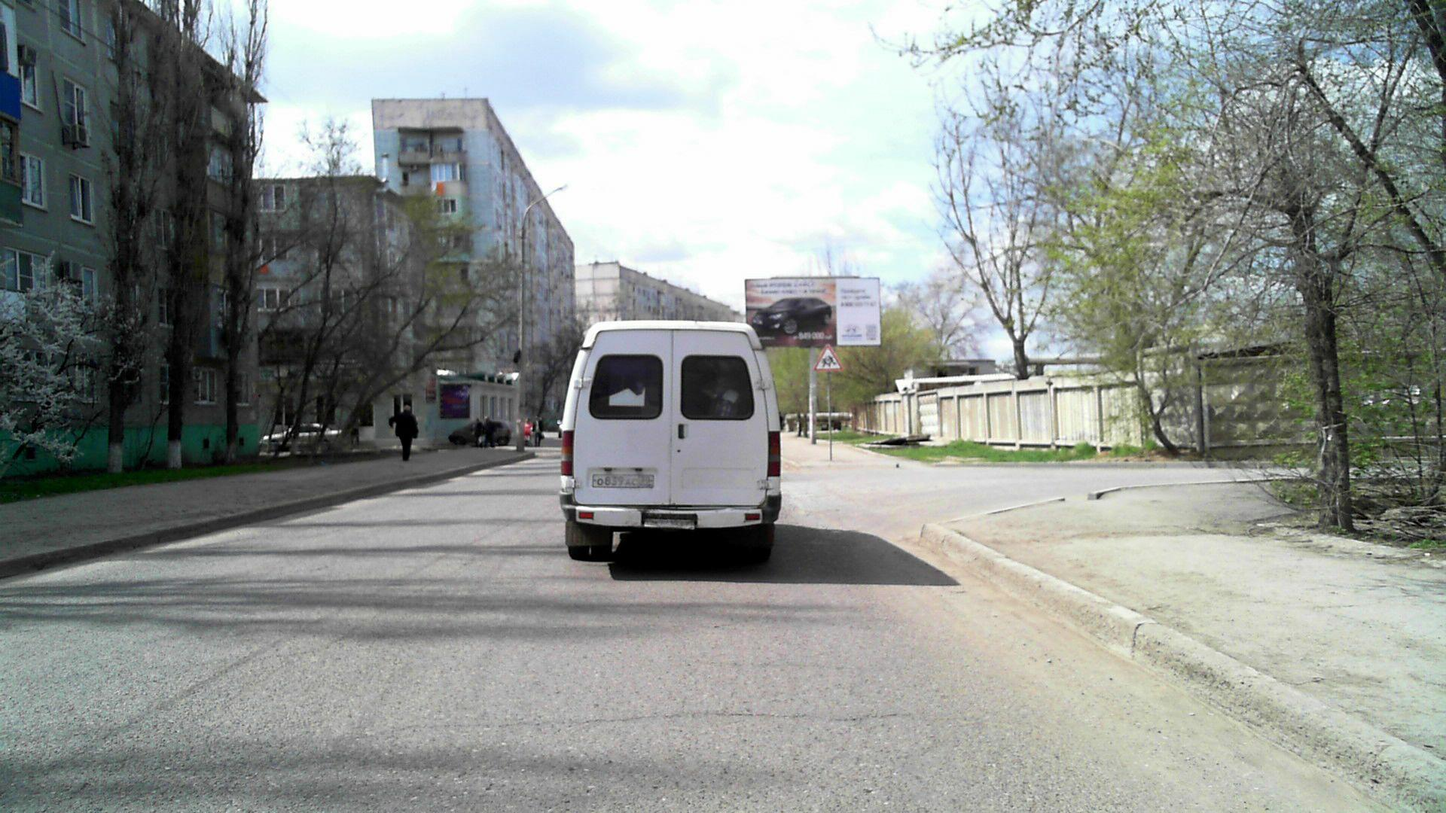road_sign: (809, 341, 846, 372)
